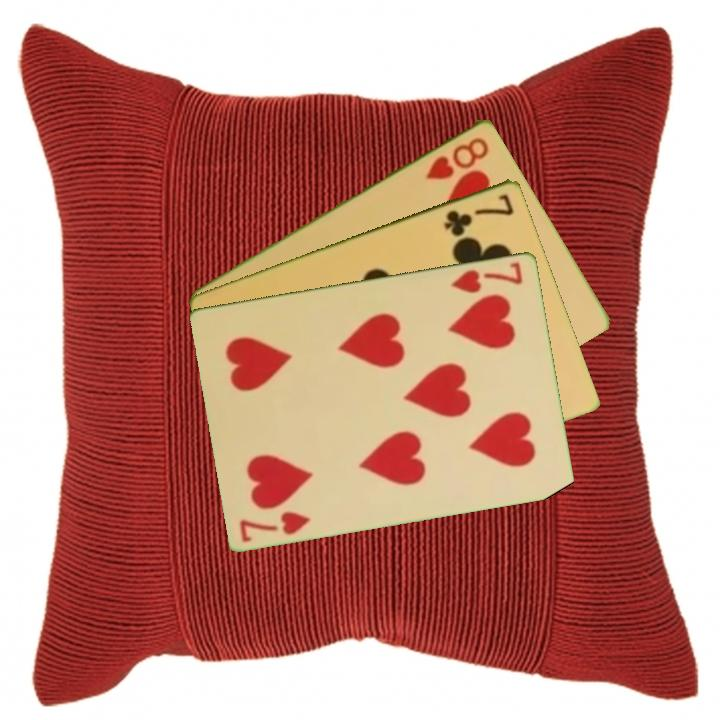7c: (441, 190, 517, 238)
7h: (447, 258, 526, 296), (236, 507, 314, 545)
8h: (422, 133, 492, 182)
